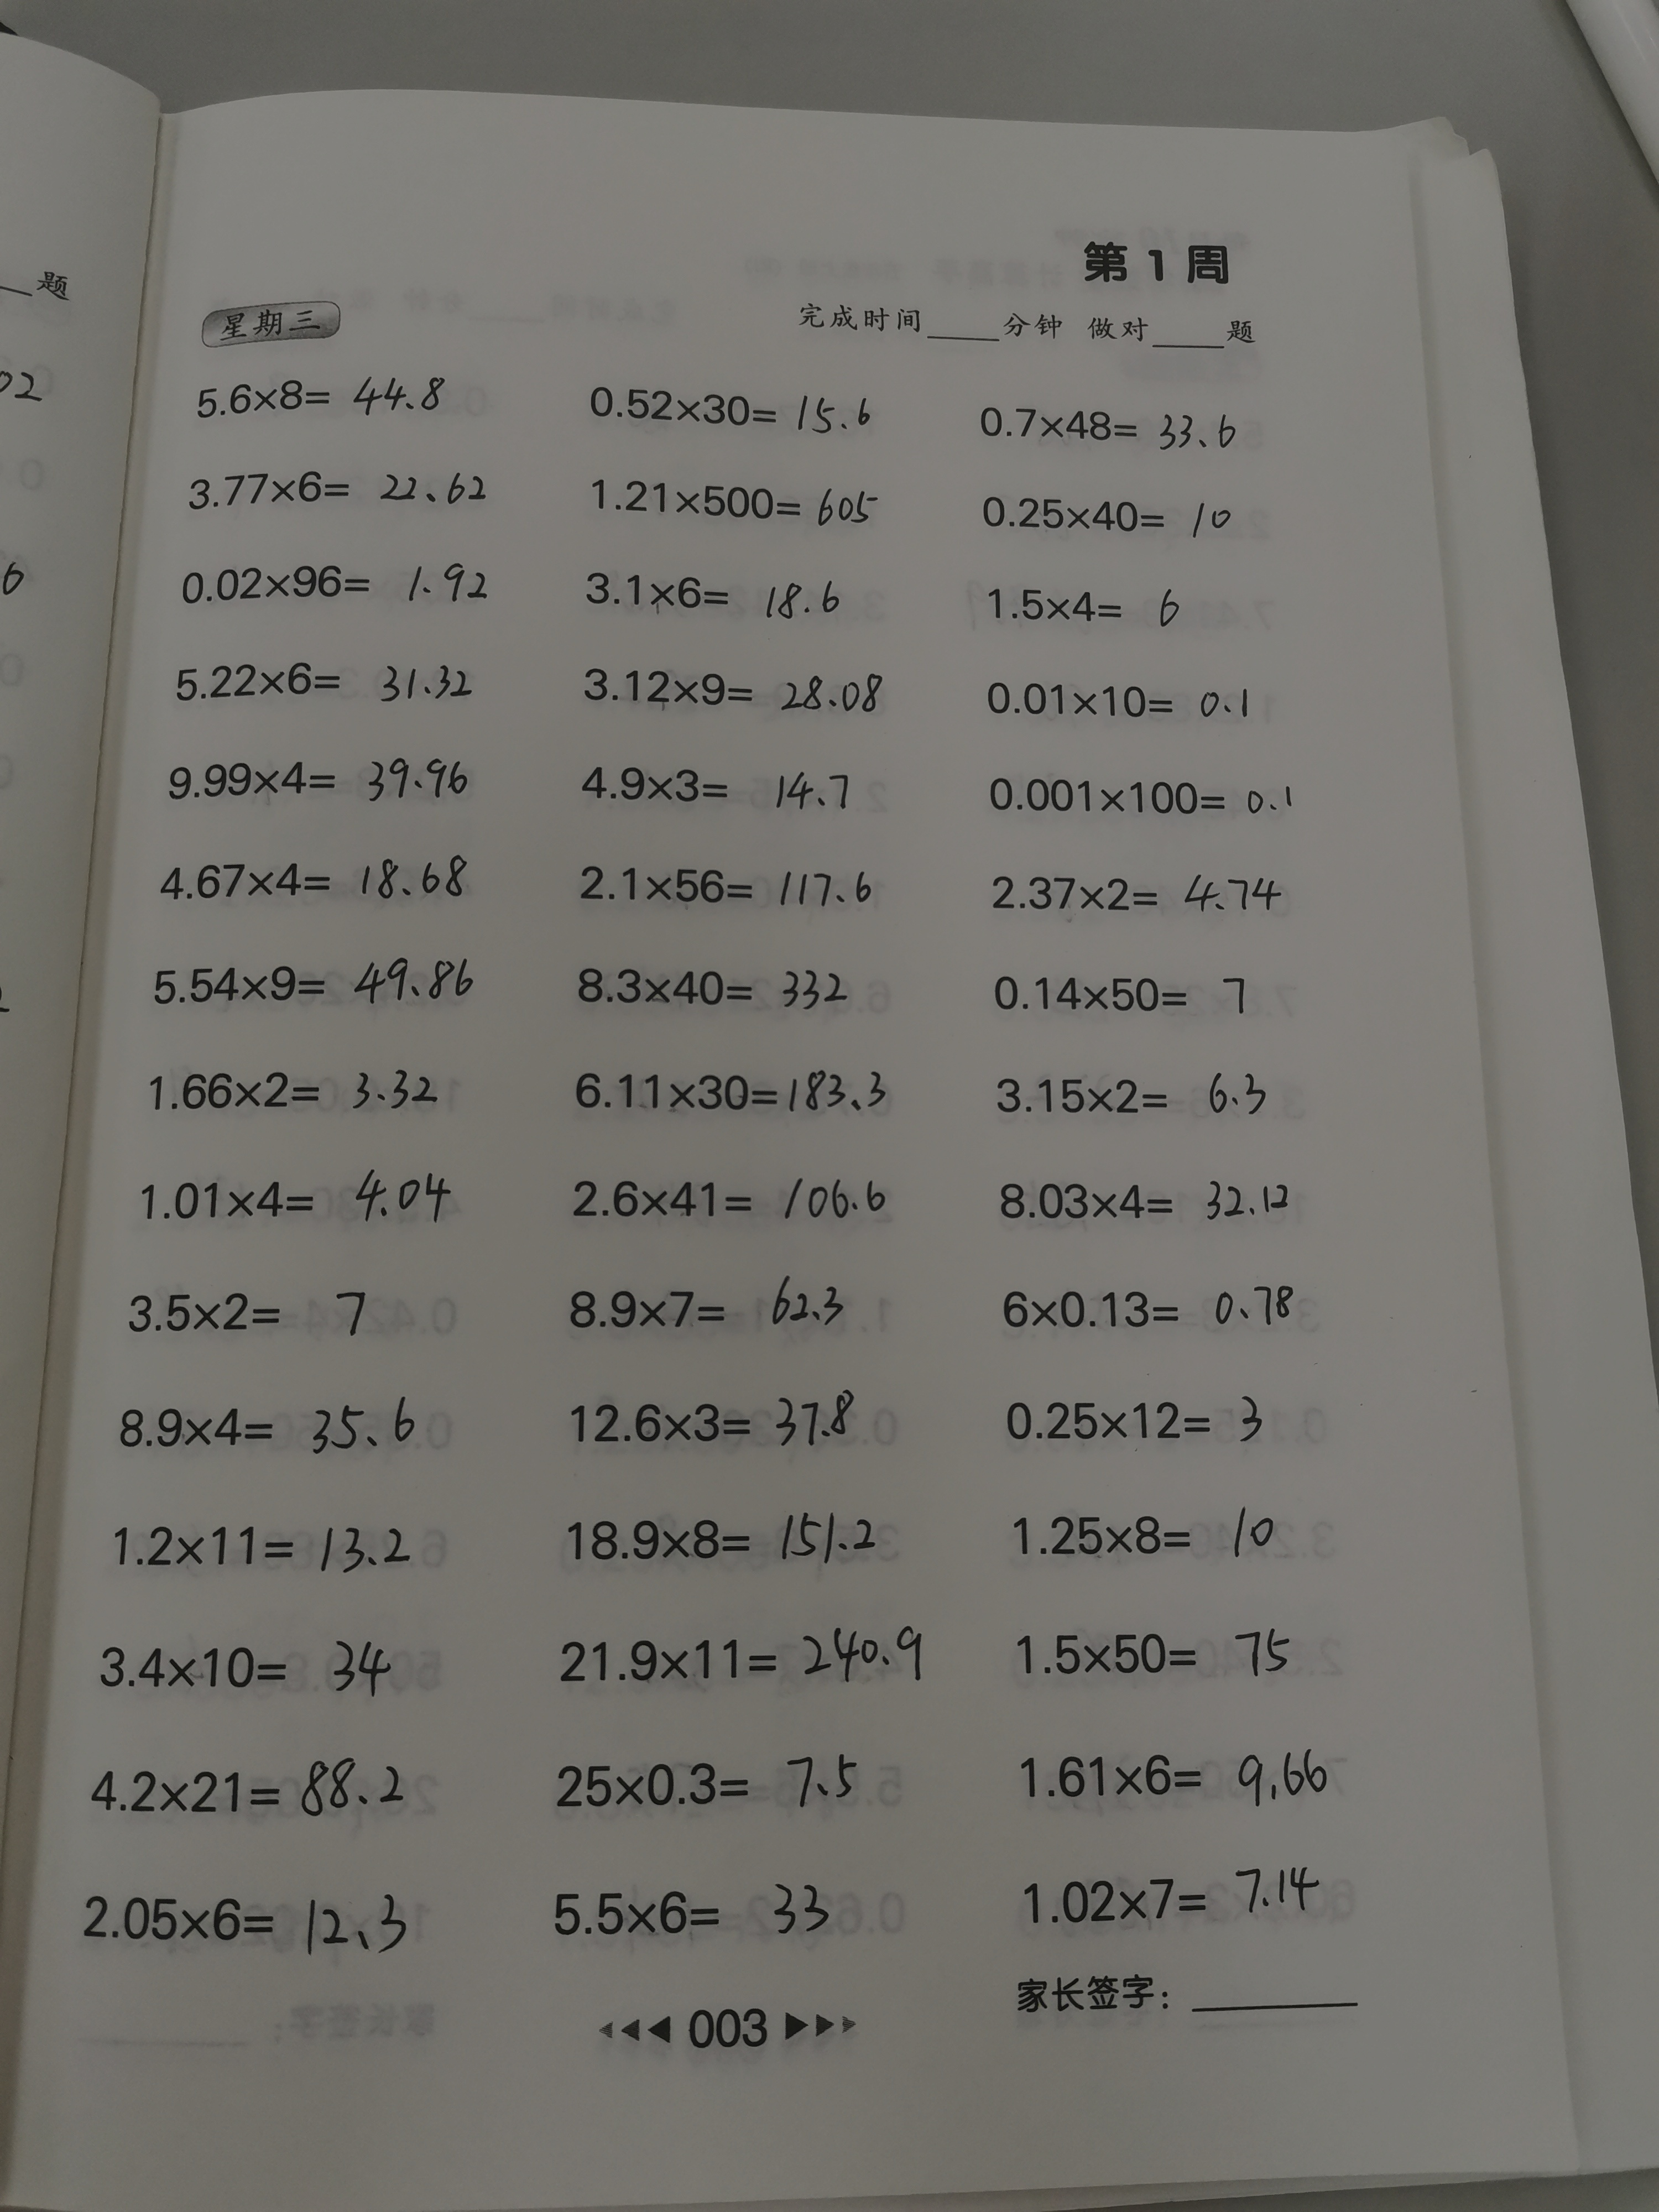equation: (63, 1872, 432, 1972), (545, 1620, 948, 1709), (75, 1752, 432, 1834), (98, 1505, 448, 1585), (538, 1867, 863, 1952), (131, 1158, 472, 1238), (89, 1629, 423, 1709), (566, 653, 901, 733), (146, 841, 495, 918), (561, 1054, 910, 1130), (575, 368, 890, 451), (538, 1745, 877, 1820), (999, 1498, 1310, 1578), (981, 1162, 1314, 1237), (979, 1271, 1319, 1345), (1007, 1740, 1347, 1813), (1004, 1858, 1335, 1933), (141, 949, 486, 1021), (556, 1507, 901, 1578), (138, 1050, 465, 1125), (974, 852, 1302, 927), (1004, 1618, 1319, 1695), (976, 660, 1277, 740), (559, 1385, 885, 1458), (160, 547, 500, 617), (559, 1163, 899, 1233), (974, 766, 1305, 838), (979, 1055, 1297, 1129), (551, 1275, 880, 1345), (108, 1388, 429, 1460), (580, 470, 899, 542), (565, 852, 887, 921), (160, 646, 500, 711), (152, 747, 498, 810), (990, 1388, 1291, 1460), (974, 960, 1272, 1029), (967, 481, 1249, 554), (561, 951, 880, 1015), (164, 456, 491, 519), (166, 362, 476, 428), (110, 1275, 404, 1345), (575, 561, 868, 627), (967, 392, 1249, 460), (572, 758, 873, 819), (967, 575, 1211, 639)
